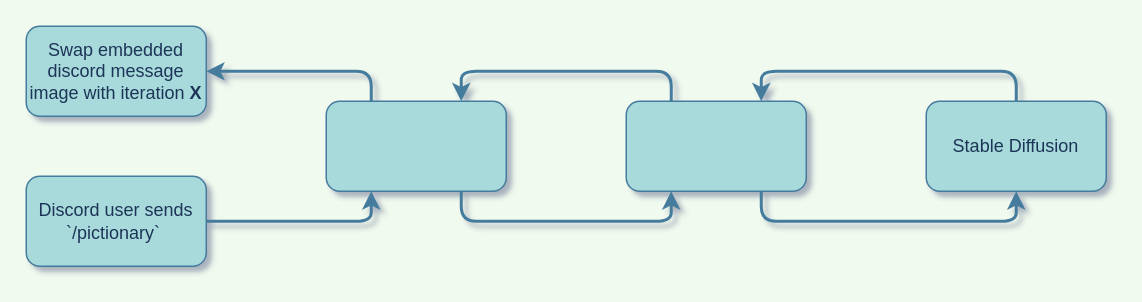
The diagram is 1142 pixels wide and 302 high, and some of its shapes have lost their labels. Each missing label, with the centre of its shape:
"Discord Bot starts the round" goes at point 415,145.
"Node Express Communicator" goes at point 715,145.
